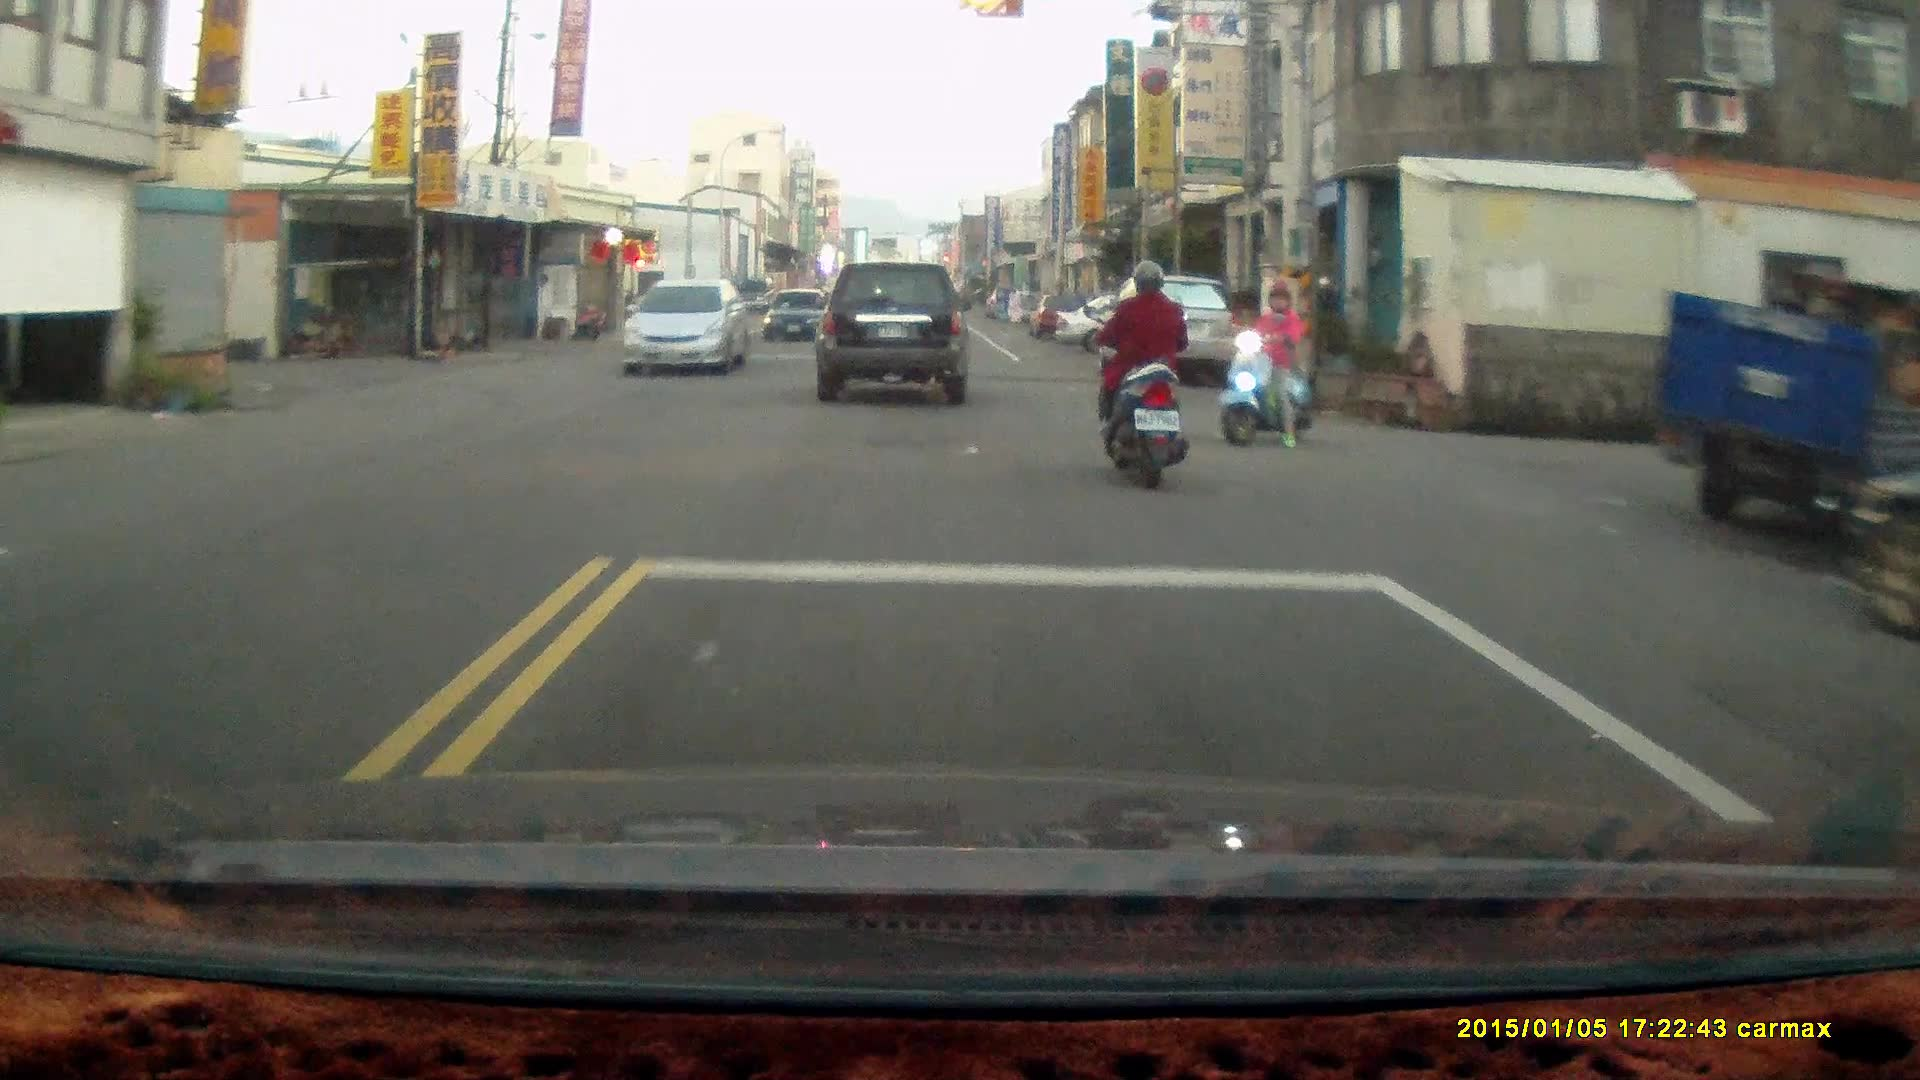rider: (1098, 254, 1187, 491), (1217, 270, 1317, 447)
vehicle: (1649, 249, 1920, 552), (815, 255, 978, 403), (1102, 274, 1247, 385), (614, 279, 754, 374), (761, 288, 829, 345)
